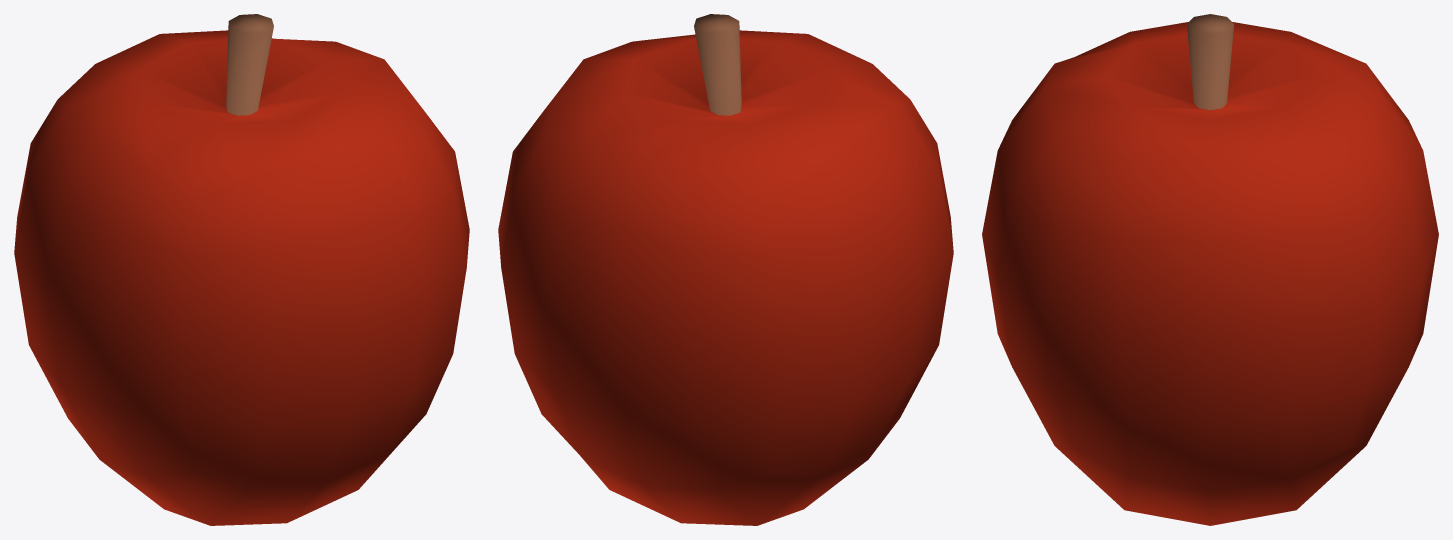
Rendered from Apple_Red.glb.
The picture shows the model from 3 angles, left to right: view 1: azimuth 30°, elevation 25°; view 2: azimuth 150°, elevation 25°; view 3: azimuth 270°, elevation 25°; orthographic projection.
Parts seen in each view (by area): view 1: Apple_Red; view 2: Apple_Red; view 3: Apple_Red.
Boxes of the visible parts, <box> form: Apple_Red: <box>14,14,469,525</box>; Apple_Red: <box>498,14,953,525</box>; Apple_Red: <box>982,14,1438,525</box>.
Size of the model in its own units: 0.084 by 0.0949 by 0.084.
Materials: 1 (1 with a texture image).
